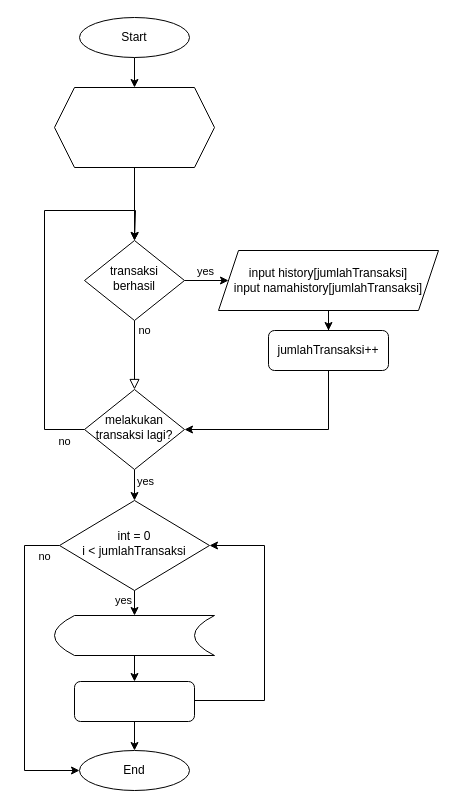
This 456x808 diagram has some shape labels left out. The centre of each missing label's shape, as x and y in pixels:
i++: the point at 134,701
int jumlahTransaksi = 0 int history[100], namaHistory[100]: the point at 134,127
print history [i] print namaHistory [ii]: the point at 134,635
